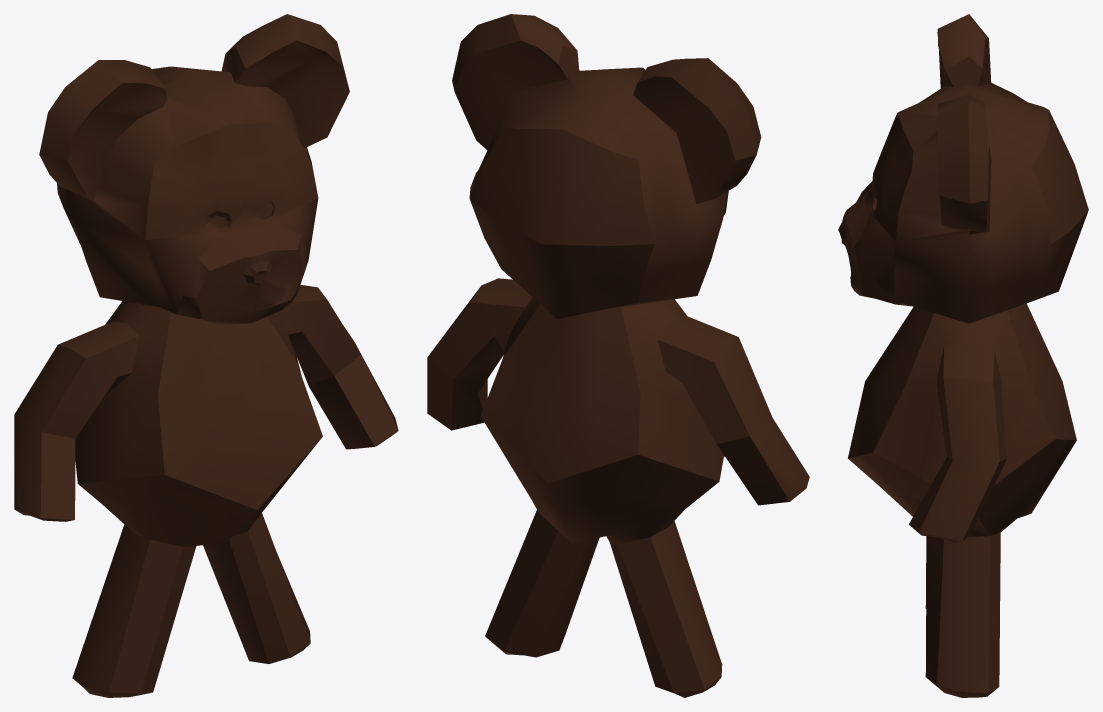
The model's file is teddy.DAE.
3 views of the same model, side by side, from view 1: azimuth 30°, elevation 25°; view 2: azimuth 150°, elevation 25°; view 3: azimuth 270°, elevation 25° (orthographic). The views are drawn at different scales.
Visible parts, largest first — view 1: Box001; view 2: Box001; view 3: Box001.
Part boxes in pixels (box(x1,y1,x2,y2)): Box001: box(14, 14, 398, 697); Box001: box(427, 14, 809, 697); Box001: box(838, 14, 1088, 697).
Bounding box in the file's own units: 60.49 × 97.32 × 36.88.
